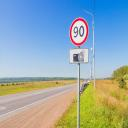speed_limit_90: (68, 17, 90, 47)
